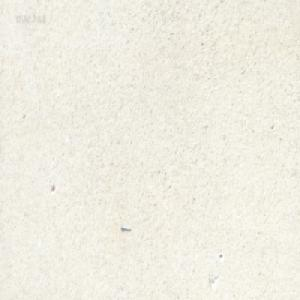Nail: (120, 223, 130, 231)
